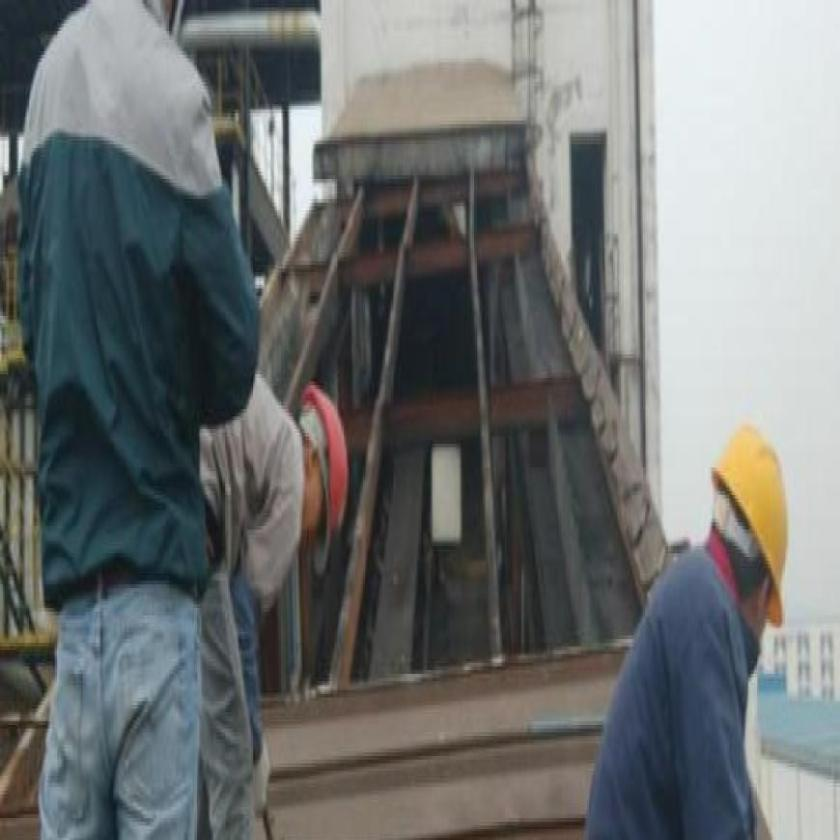Con_casco: (701, 422, 790, 649), (300, 386, 355, 583)
